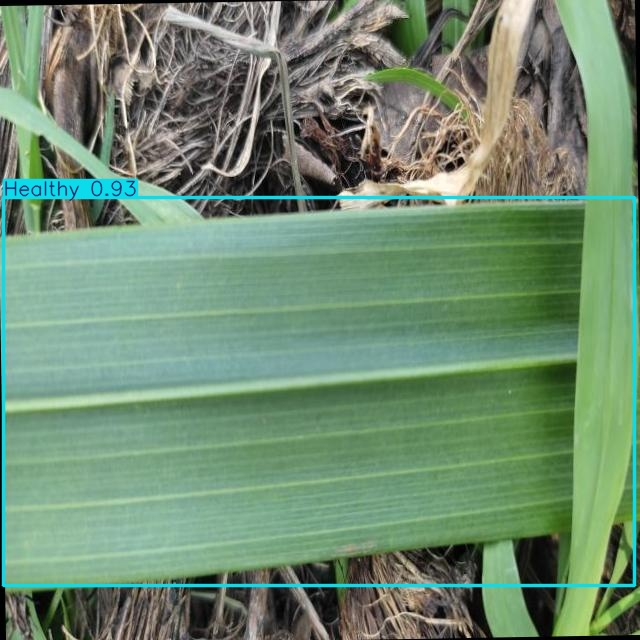Healthy: (3, 198, 634, 586)
